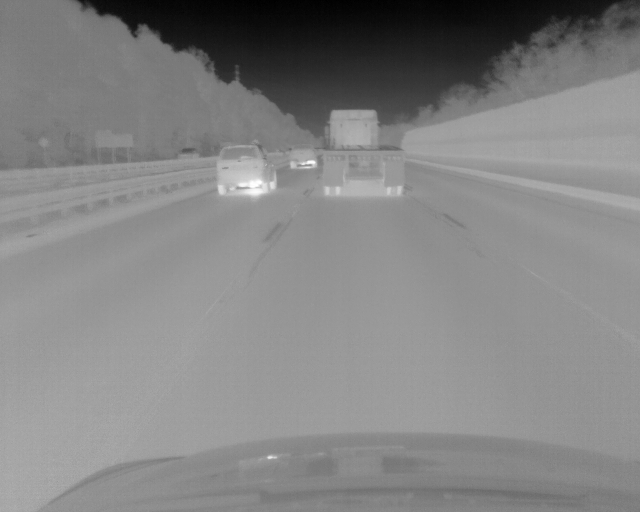car: (322, 109, 406, 198), (215, 144, 278, 195), (288, 142, 317, 168), (177, 147, 199, 158)
